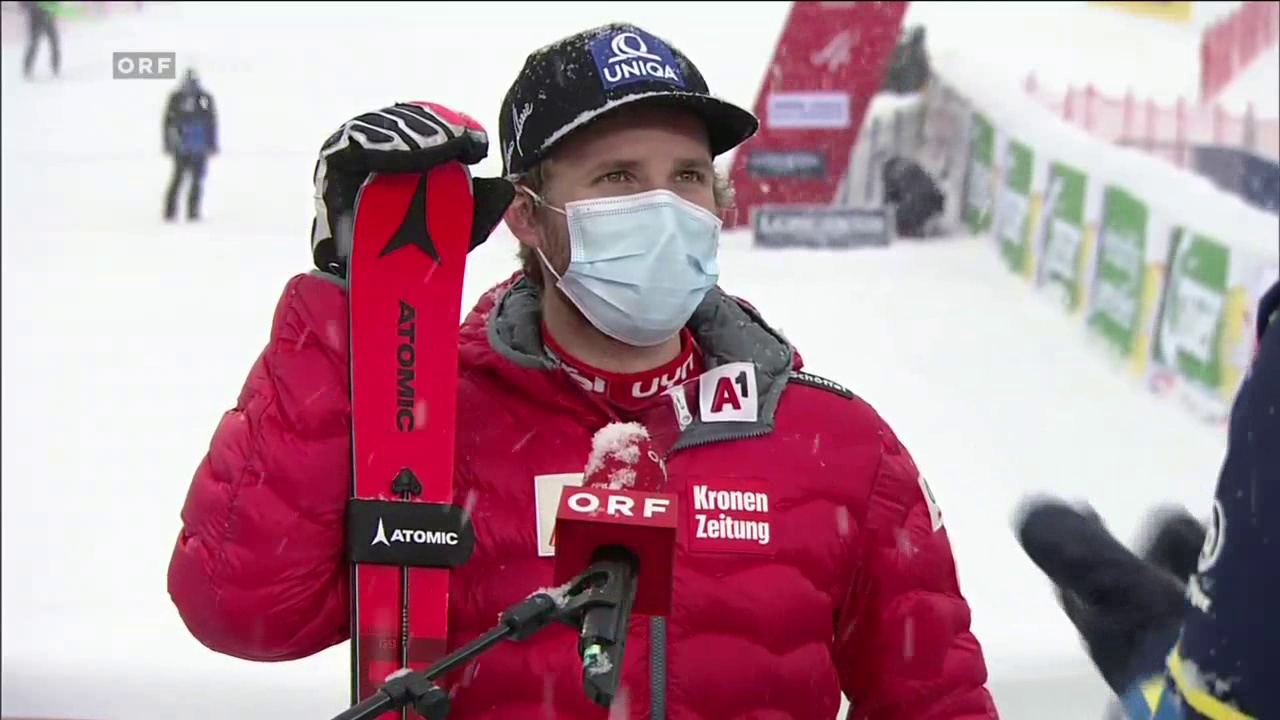a1: (705, 370, 760, 420)
kronenzeitung: (692, 487, 776, 546)
uniqa: (594, 32, 677, 90)
